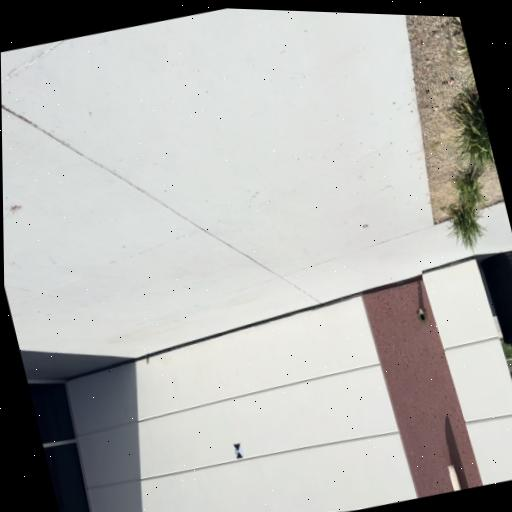target7: (233, 443, 244, 458)
